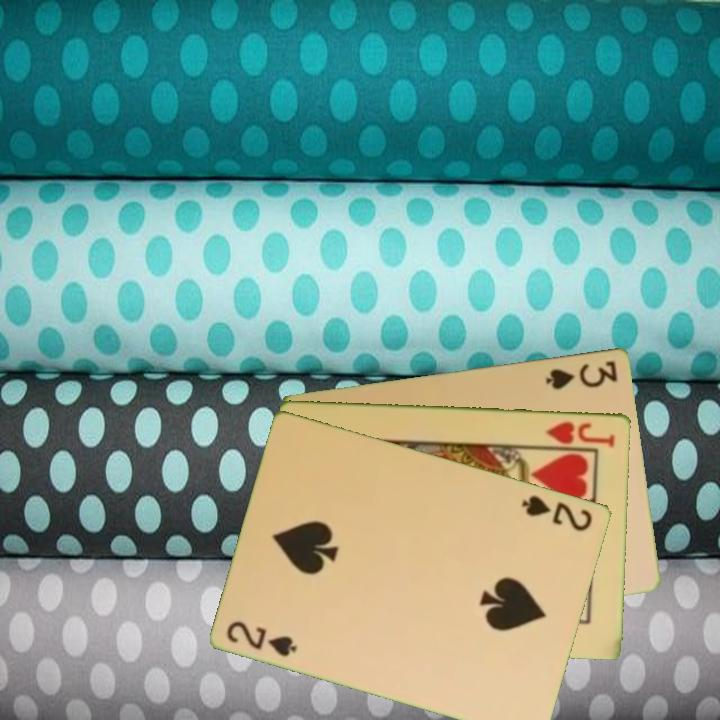2s: (518, 491, 596, 534), (224, 617, 301, 660)
3s: (542, 357, 621, 392)
Jh: (542, 417, 618, 450)
